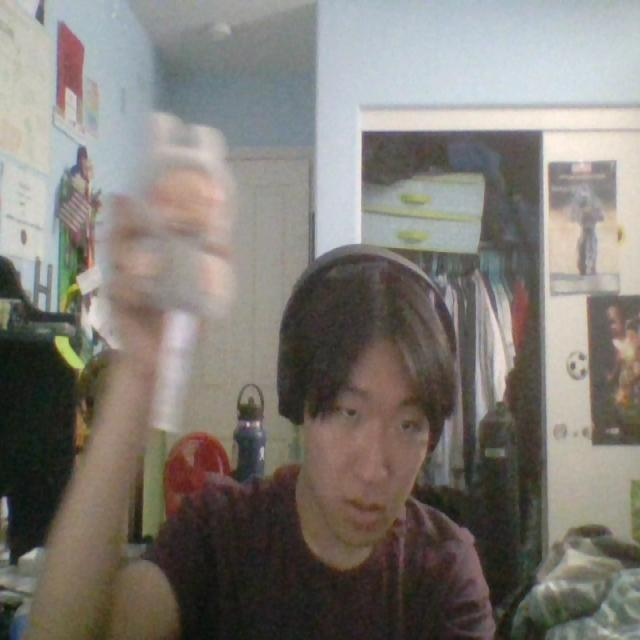labubu: (136, 113, 234, 315)
